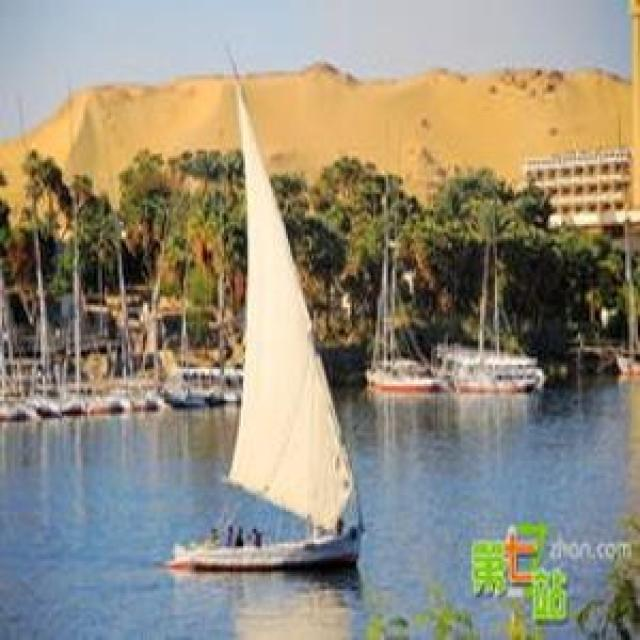sailboat: (180, 59, 362, 595)
